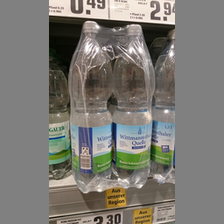water: (67, 20, 114, 190), (113, 22, 154, 188), (152, 27, 174, 185)
